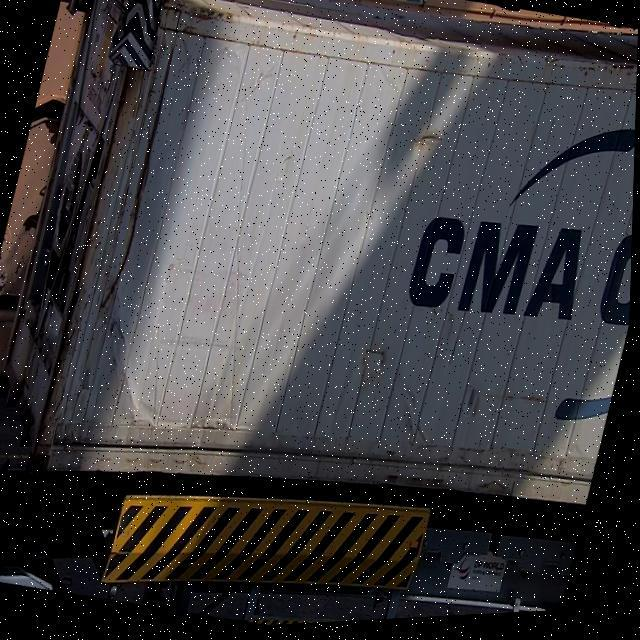rust: (29, 100, 146, 474)
